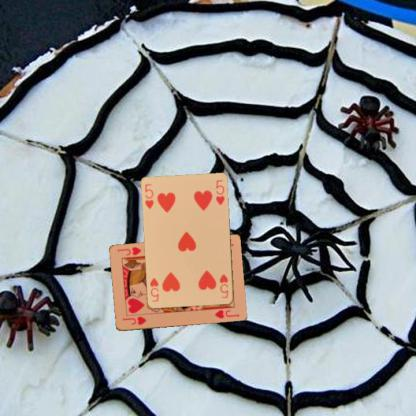5h: (143, 182, 155, 210), (218, 272, 230, 299)
Jh: (121, 314, 148, 326)
